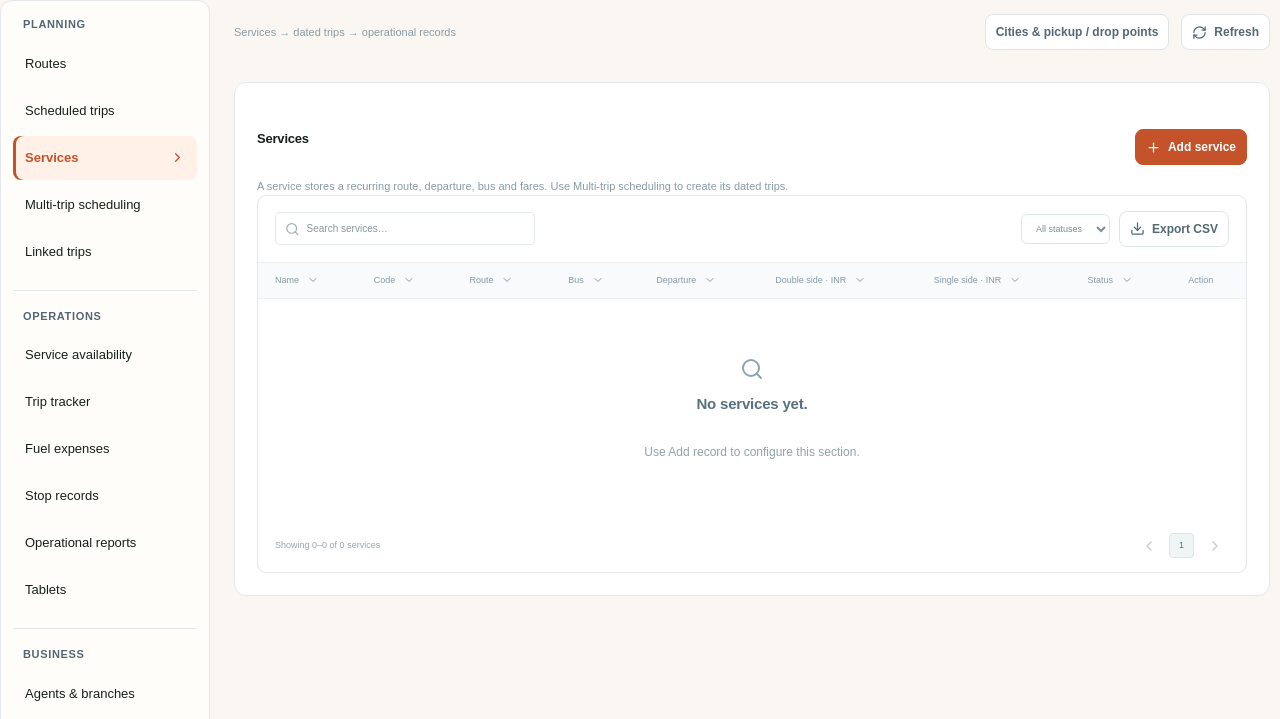
Test: opens Trip Master sections and provides actionable empty states
Check: the heading "No services yet." is shown, box [696,393,808,415]
Click the button "Cities & pickup / drop points".
click(1077, 32)  # box [985,14,1169,50]
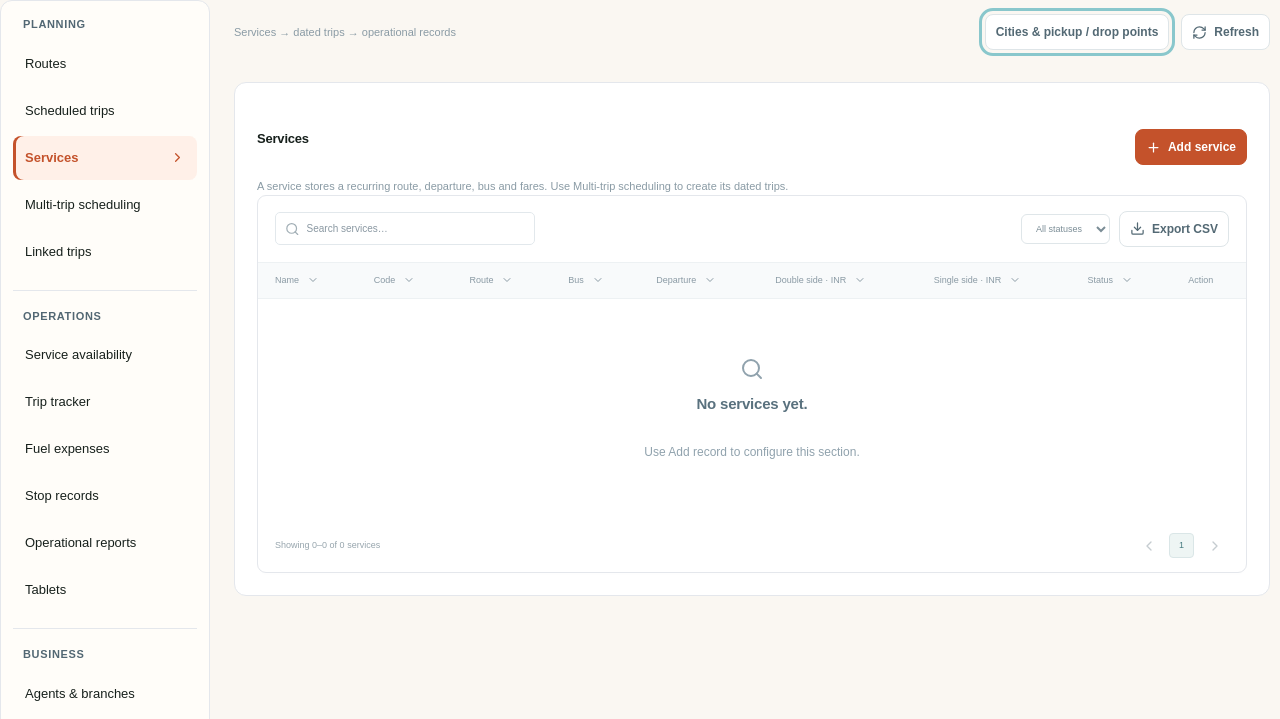
Click the tab "Routes".
click(105, 64)  # box [13,42,197,86]
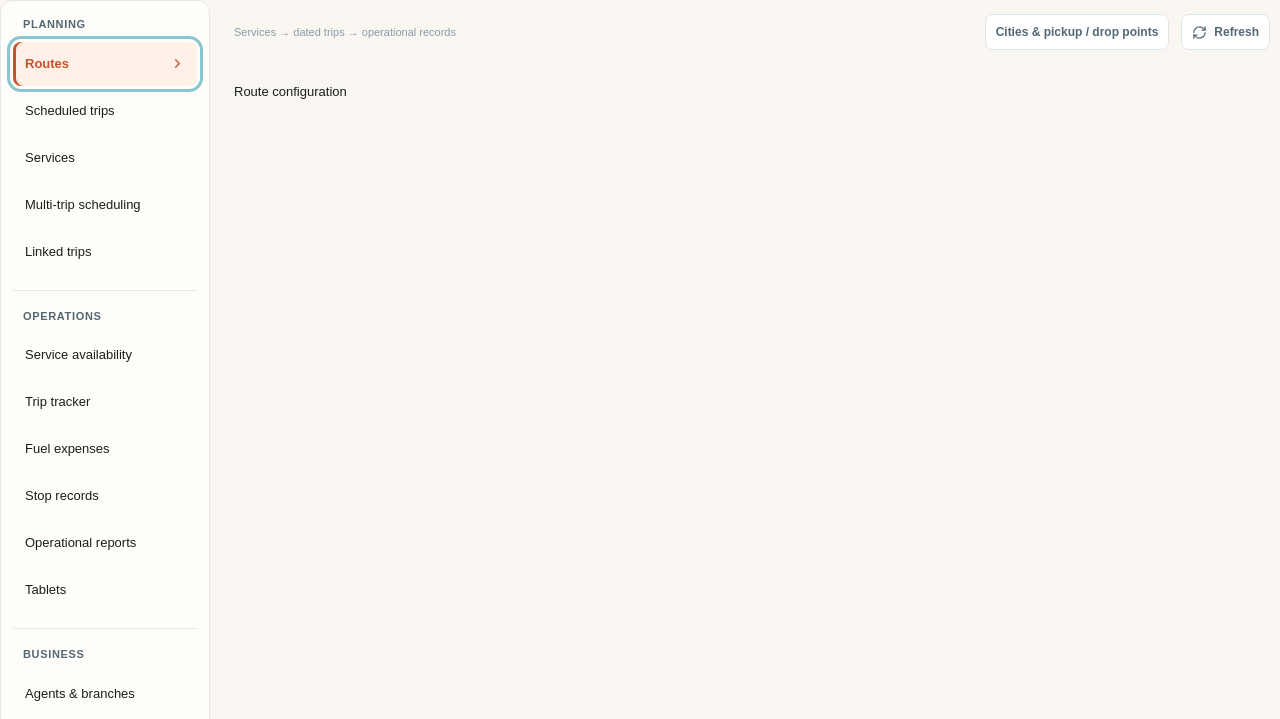
Check: the text "Route configuration" is shown, box [234,84,347,99]
Click the tab "Scheduled trips".
click(105, 110)  # box [13,88,197,132]
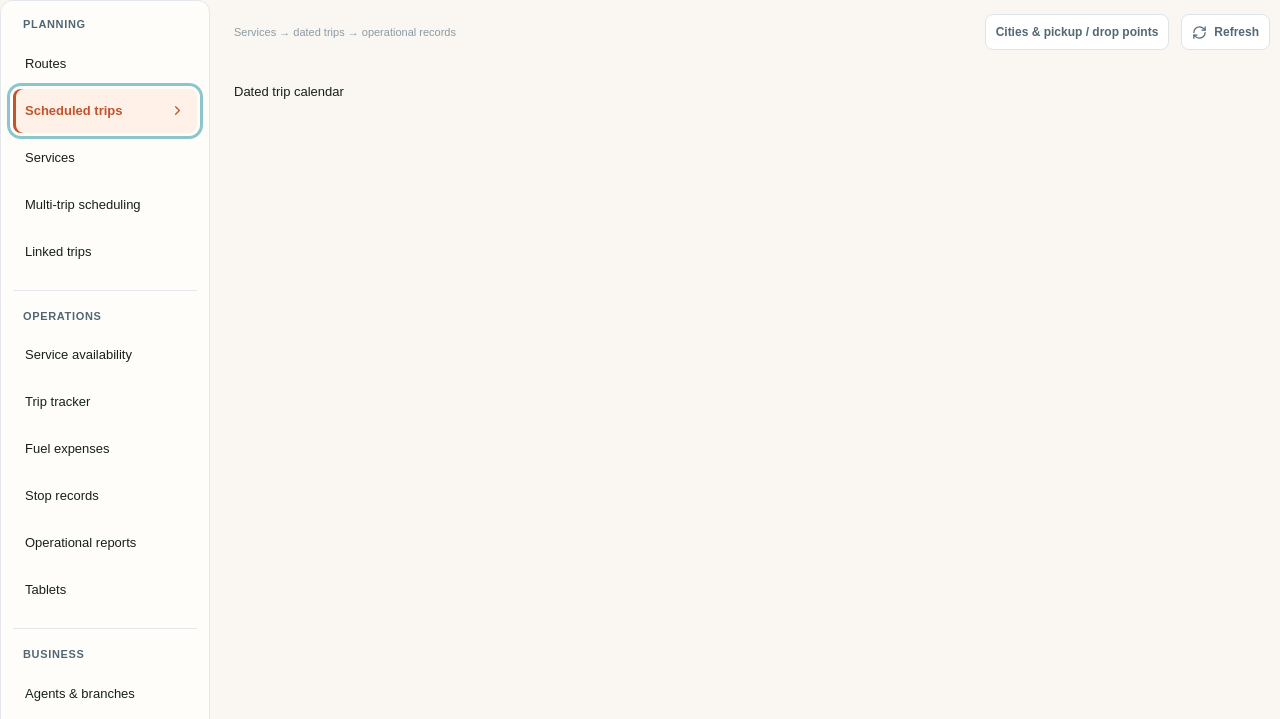
Check: the text "Dated trip calendar" is shown, box [234,84,344,99]
Click the tab "Multi-trip scheduling".
click(105, 204)  # box [13,182,197,226]
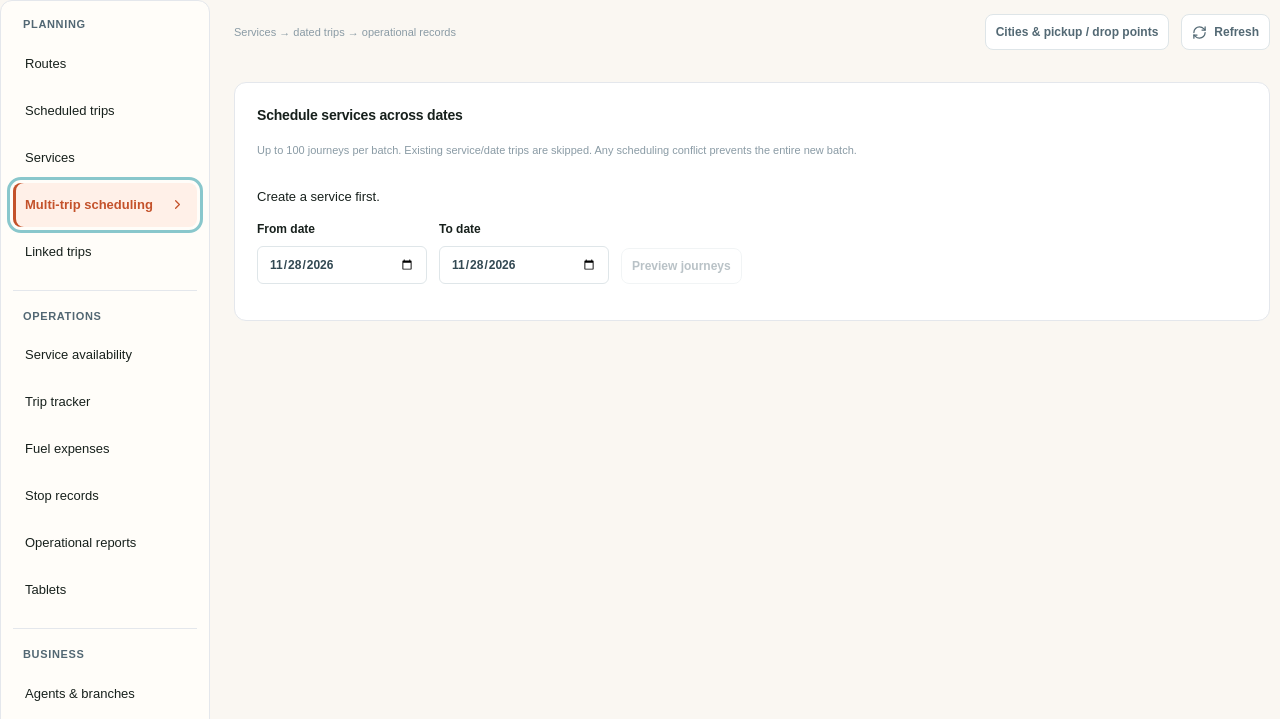
Check: the text "Create a service first." is shown, box [257,188,380,204]
